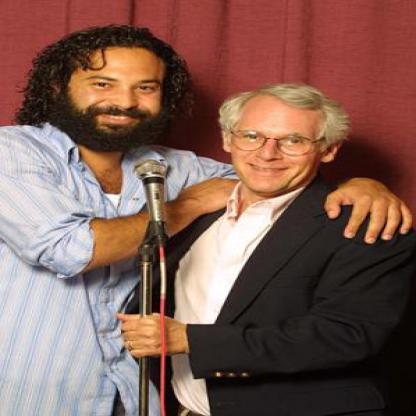face: (64, 34, 172, 153), (232, 89, 322, 197)
